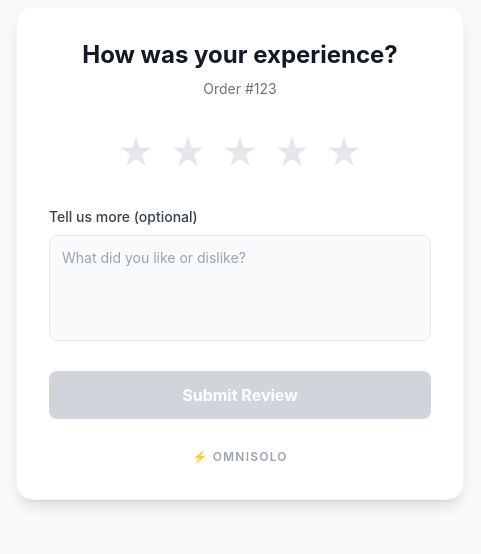
Test case: LeaveReviewPage › does not report a 3-star review as submitted without a review API
Note: Click 3rd star
What coordinates should you click on to do the following:
click the 3rd button "★"
I would click on:
 (240, 153)
Its box is [218, 131, 262, 175].
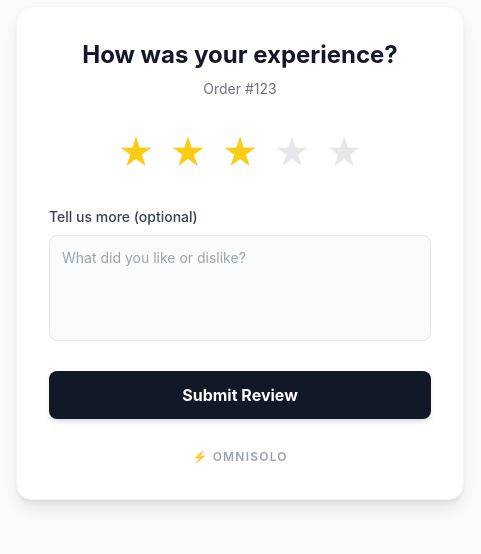
What coordinates should you click on to do the following:
click the button "Submit Review"
I would click on:
 (240, 395)
Its box is [49, 371, 431, 419].
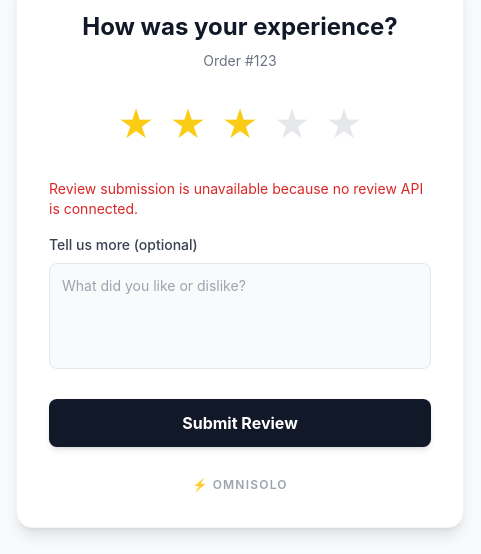
expect the message shows "Review submission is unavailable": met, box [49, 180, 423, 217]
